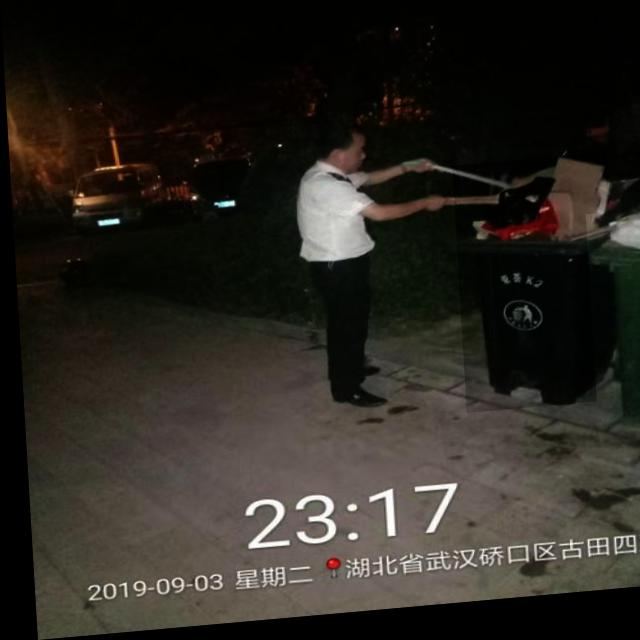overflow: (450, 164, 615, 421), (582, 220, 640, 445)
